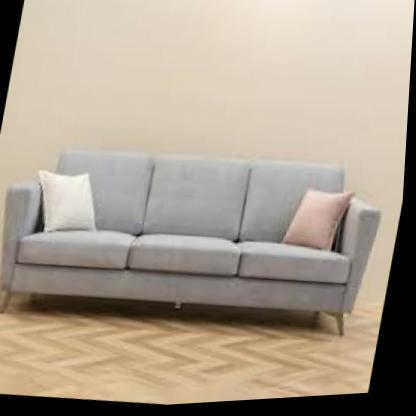Sofa: (0, 118, 398, 362)
